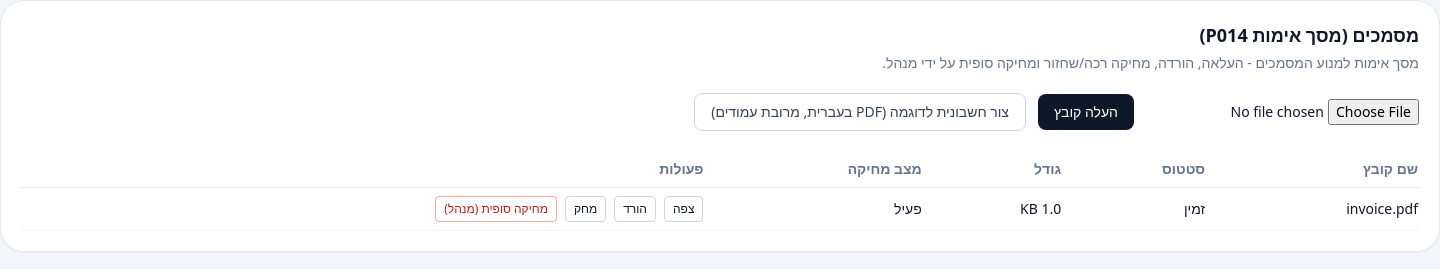
Test: DocumentsVerificationPanel - View/Download › disables Download while a request is already pending, preventing a duplicate click
Expected: the text "invoice.pdf" is shown, [1206,188,1419,230]
Click the button "הורד": (635, 209) [614,196,656,222]
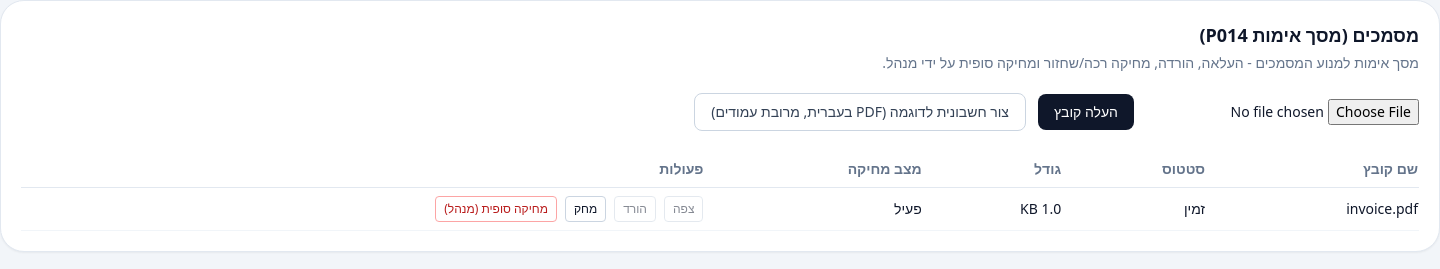
Now the button "הורד" is disabled, box [614,196,656,222]
